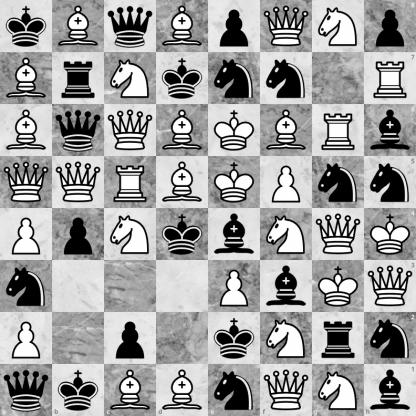B: (156, 364, 209, 416), (104, 364, 156, 416), (1, 53, 52, 104), (1, 105, 52, 156), (53, 1, 104, 52), (157, 1, 208, 52), (157, 105, 208, 156), (157, 157, 208, 208), (261, 105, 312, 156)
K: (364, 209, 416, 260), (209, 105, 260, 156), (209, 157, 260, 208), (313, 261, 364, 312)
N: (312, 364, 364, 416), (105, 53, 156, 104), (105, 209, 156, 260), (261, 209, 312, 260), (261, 313, 312, 364), (313, 1, 364, 52)
P: (1, 209, 52, 260), (1, 313, 52, 364), (209, 261, 260, 312), (261, 157, 312, 208)
Q: (260, 364, 312, 416), (364, 260, 416, 312), (1, 157, 52, 208), (53, 157, 104, 208), (105, 105, 156, 156), (261, 1, 312, 52), (313, 209, 364, 260)
R: (364, 52, 416, 104), (105, 157, 156, 208), (313, 105, 364, 156)
b: (364, 104, 416, 156), (364, 364, 416, 416), (209, 209, 260, 260), (261, 261, 312, 312)
board: (0, 0, 415, 415)
k: (52, 364, 104, 416), (1, 1, 52, 52), (157, 53, 208, 104), (157, 209, 208, 260), (209, 313, 260, 364)
n: (364, 156, 416, 209), (364, 312, 416, 364), (209, 364, 260, 416), (1, 261, 52, 312), (209, 53, 260, 104), (261, 53, 312, 104), (313, 157, 364, 208)
p: (364, 0, 416, 52), (53, 209, 104, 260), (105, 313, 156, 364), (209, 1, 260, 52)
q: (0, 364, 52, 416), (53, 105, 104, 156), (105, 1, 156, 52)
r: (53, 53, 104, 104), (313, 313, 364, 364)
